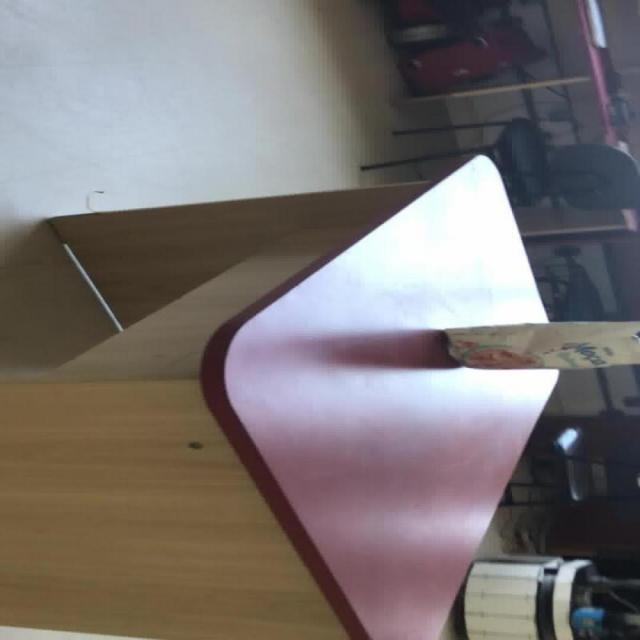CornFlakes: (442, 320, 638, 370)
